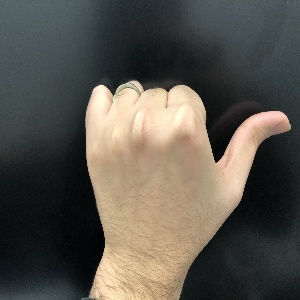hand: (82, 81, 291, 237)
